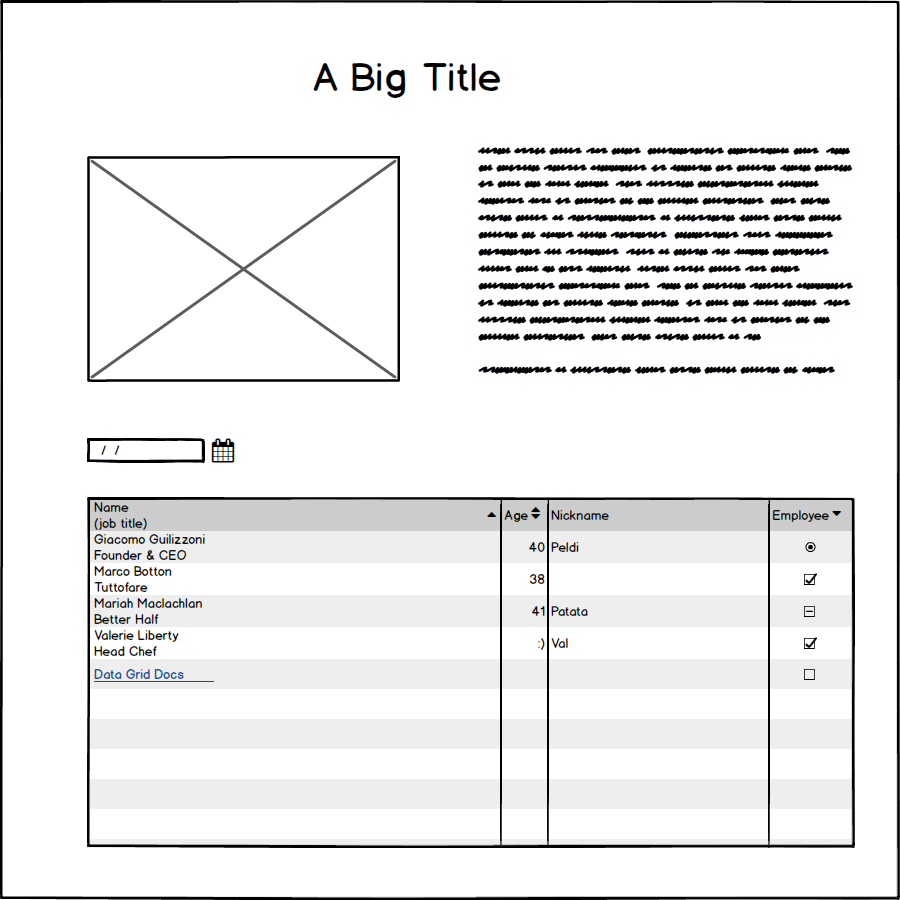date_picker: (76, 426, 244, 474)
h1: (302, 55, 507, 106)
image: (76, 149, 413, 389)
p: (471, 138, 860, 388)
table: (75, 491, 864, 859)
